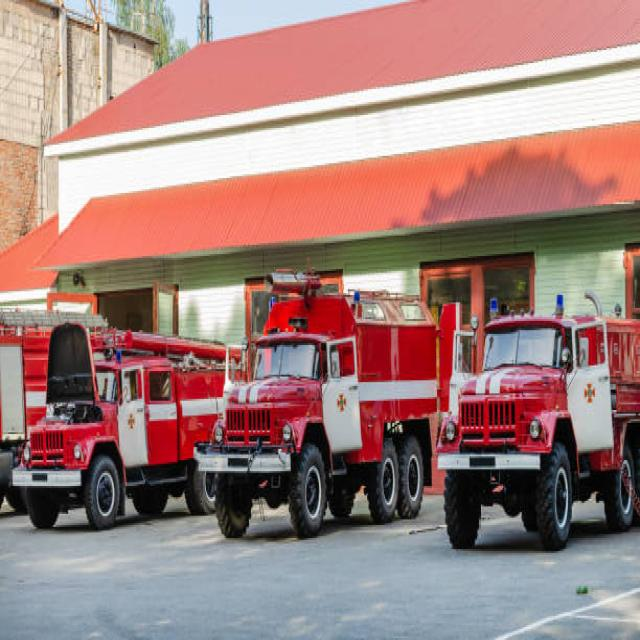emergency: (195, 275, 464, 537), (438, 290, 640, 550), (12, 324, 225, 529)
